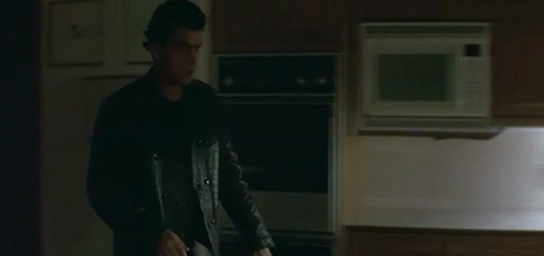face: (172, 35, 203, 86)
ms: (1, 1, 544, 256)
person: (87, 1, 277, 256)
